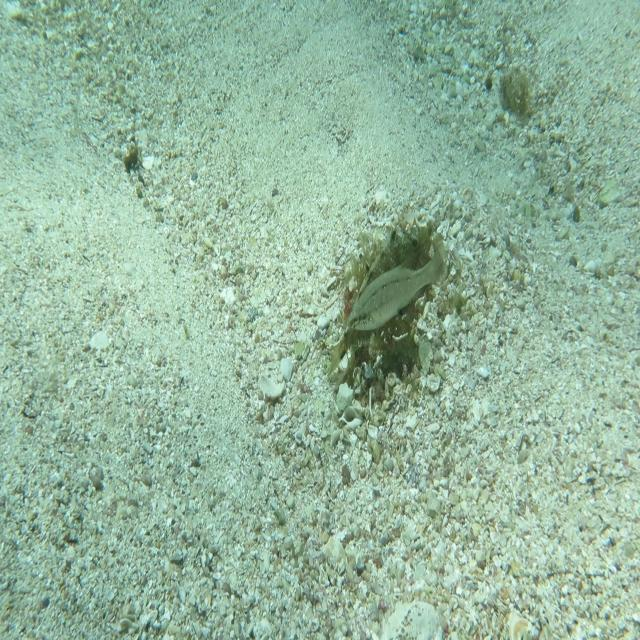LF: (324, 226, 430, 380)
female: (348, 240, 450, 332)
nest: (329, 209, 449, 408)
vegetation: (491, 68, 528, 125), (120, 147, 141, 174)
